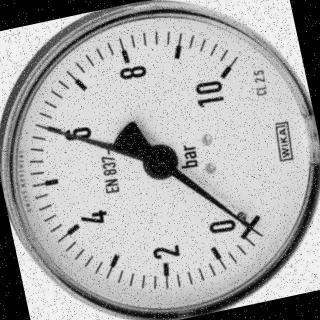gauge: (0, 0, 320, 320), (138, 141, 182, 184), (203, 56, 245, 92), (231, 209, 273, 243), (248, 221, 268, 243), (30, 118, 46, 132)
